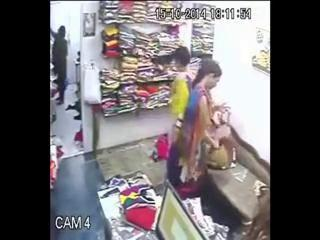shoplifting: (186, 60, 241, 190)
